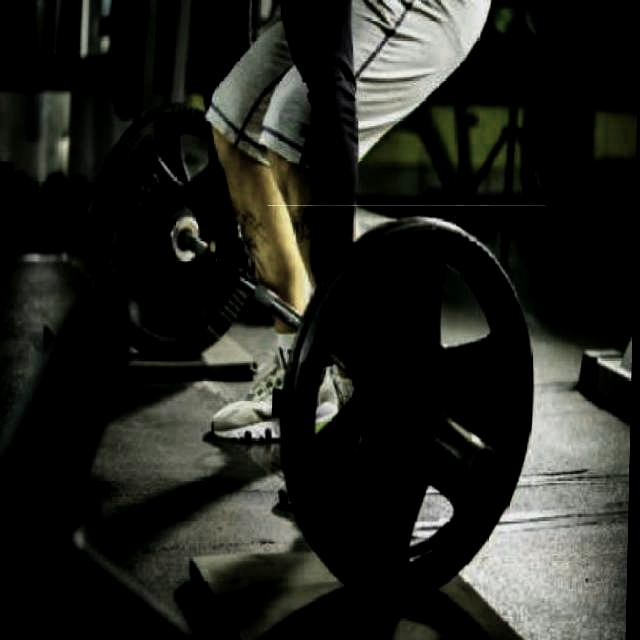barbell: (262, 206, 547, 610)
